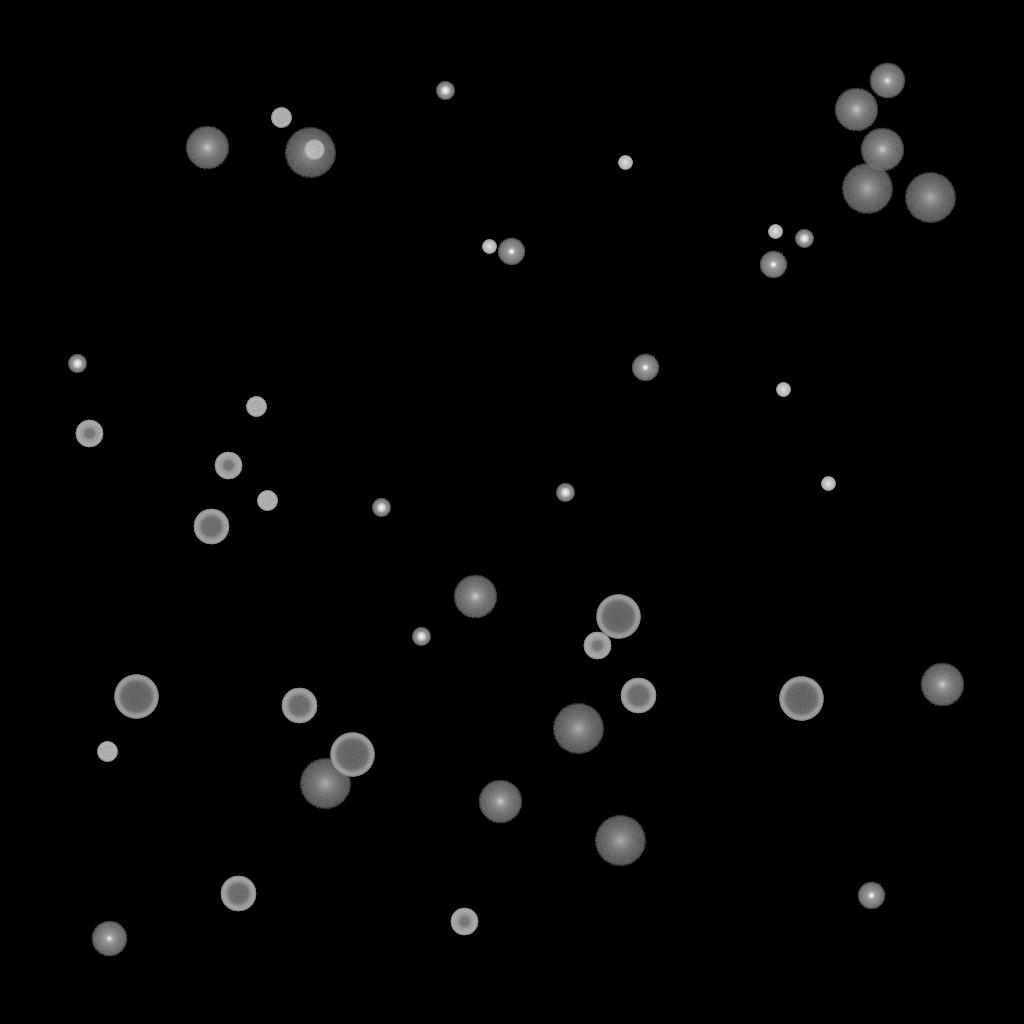depth:-10: (759, 251, 787, 279), (857, 882, 885, 910), (497, 238, 525, 266), (631, 354, 659, 382)
depth:-20: (795, 230, 813, 248), (68, 355, 86, 373), (556, 484, 574, 502), (412, 628, 430, 646), (436, 82, 454, 100), (372, 499, 390, 517)
depth:-30: (776, 383, 790, 397), (618, 156, 632, 170), (821, 477, 835, 491), (482, 240, 496, 254), (768, 225, 782, 239)
depth:-40: (246, 397, 266, 417), (304, 140, 324, 160), (97, 742, 117, 762), (271, 108, 291, 128), (257, 491, 277, 511)
depth:-50: (75, 420, 103, 448), (214, 452, 242, 480), (583, 632, 611, 660), (450, 908, 478, 936)
depth:-60: (220, 876, 256, 912), (281, 688, 317, 724), (620, 678, 656, 714), (193, 509, 229, 545)
depth:-70: (330, 733, 374, 777), (114, 675, 158, 719), (779, 677, 823, 721), (596, 595, 640, 639)
depth:0: (869, 63, 905, 99), (91, 921, 127, 957)
depth:10: (920, 663, 964, 707), (185, 126, 229, 170), (834, 88, 878, 132), (860, 128, 904, 172), (453, 575, 497, 619), (478, 780, 522, 824)
depth:20: (594, 816, 646, 866), (904, 173, 956, 223), (299, 759, 351, 809), (552, 704, 604, 754), (841, 164, 893, 214), (284, 128, 336, 178)
